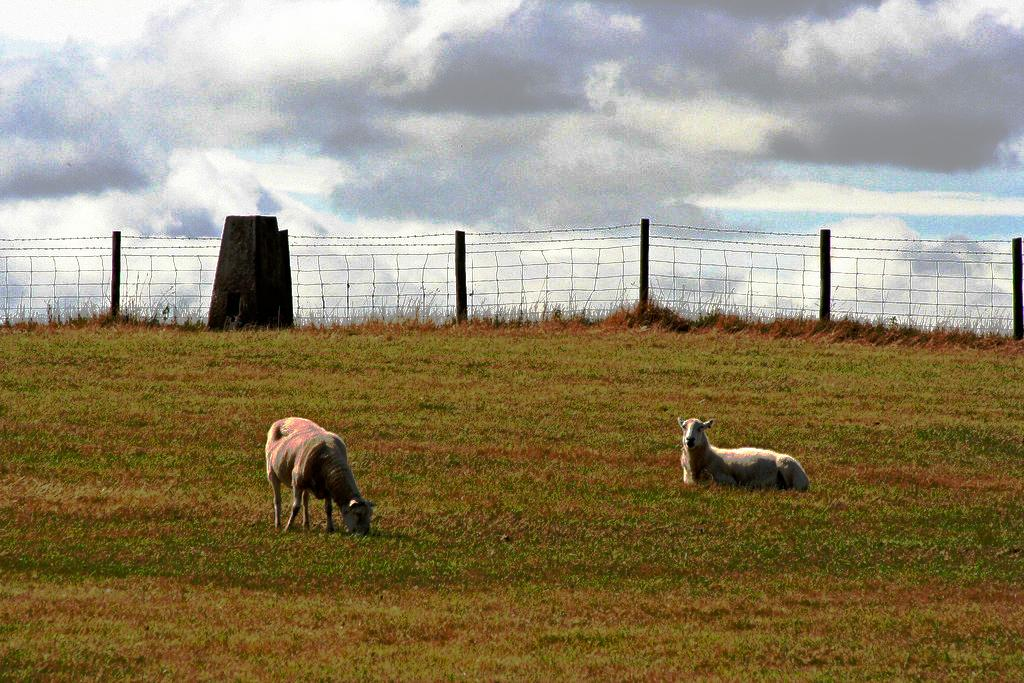Sheep: (264, 417, 376, 536), (676, 419, 810, 499)
